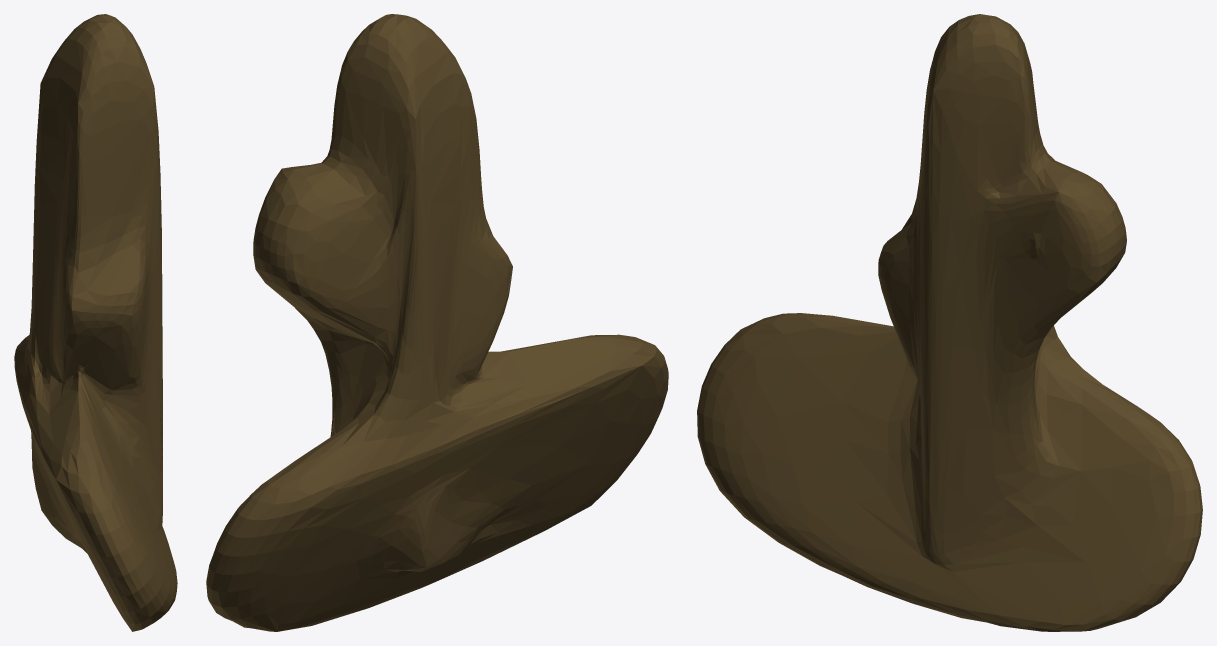
3 renders of one model, left to right at view 1: azimuth 30°, elevation 25°; view 2: azimuth 150°, elevation 25°; view 3: azimuth 270°, elevation 25°, orthographic. The views are drawn at different scales.
Visible parts, largest first — view 1: 582_Cube.2343; view 2: 582_Cube.2343; view 3: 582_Cube.2343.
Part boxes in pixels (left/top/right/bottom): 582_Cube.2343: left=14, top=14, right=177, bottom=631; 582_Cube.2343: left=206, top=14, right=668, bottom=631; 582_Cube.2343: left=697, top=14, right=1202, bottom=631.
Bounding box in the file's own units: 5.65 × 12.88 × 10.1.
